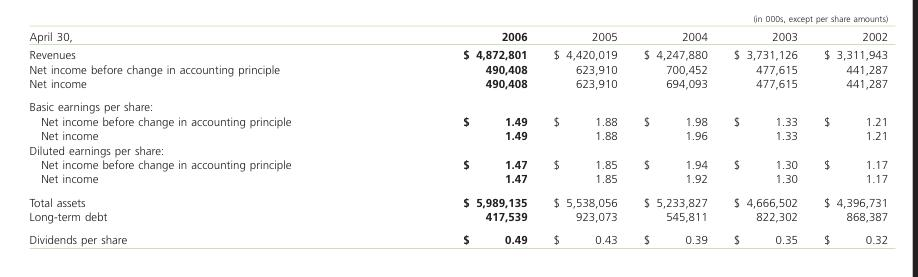table: (28, 28, 887, 245)
table column: (28, 28, 376, 245), (376, 28, 539, 245), (719, 28, 810, 245), (539, 28, 629, 245), (629, 28, 719, 245), (810, 28, 887, 245)
table column header: (28, 28, 887, 44)
table projected row header: (28, 94, 887, 113), (28, 142, 887, 156)
table row: (28, 75, 887, 94), (28, 94, 887, 113), (28, 189, 887, 208), (28, 208, 887, 227), (28, 171, 887, 189), (28, 227, 887, 245), (28, 44, 887, 61), (28, 28, 887, 44), (28, 127, 887, 142), (28, 156, 887, 171), (28, 61, 887, 75), (28, 113, 887, 127), (28, 142, 887, 156)
